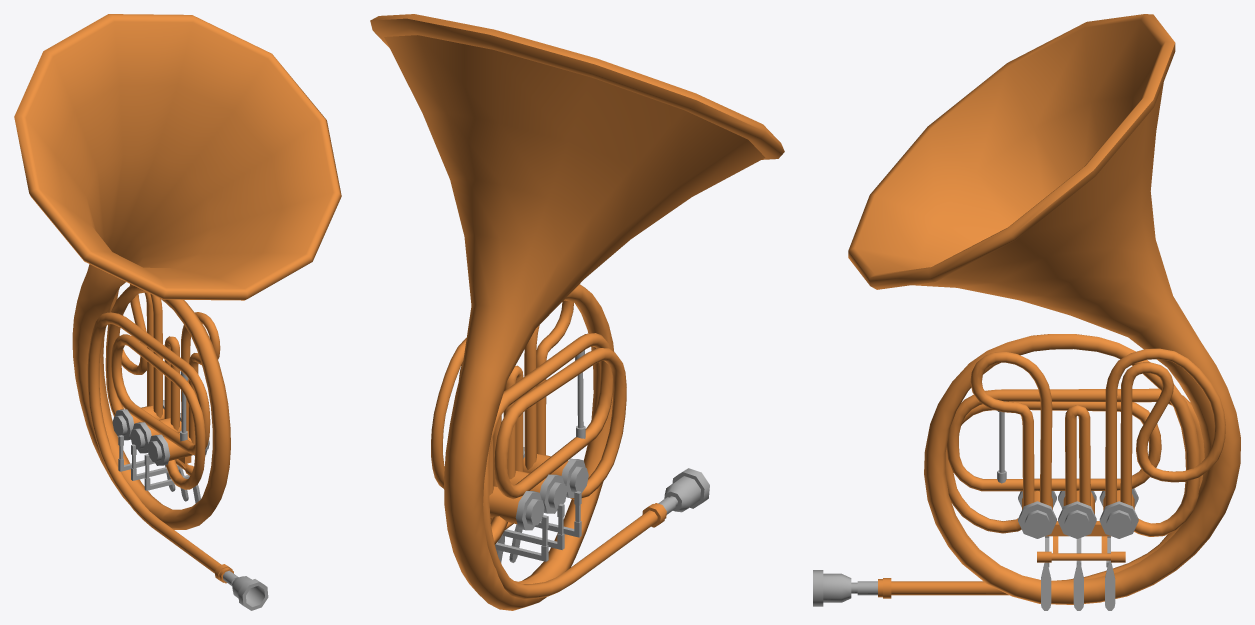
The model's file is FrenchHorn_01.fbx.
3 views of the same model, side by side, from view 1: azimuth 30°, elevation 25°; view 2: azimuth 150°, elevation 25°; view 3: azimuth 270°, elevation 25° (orthographic). The views are drawn at different scales.
Visible parts, largest first — view 1: FrenchHorn_01; view 2: FrenchHorn_01; view 3: FrenchHorn_01.
Part boxes in pixels (x1,y1,x2,y2): FrenchHorn_01: (14,14,341,610); FrenchHorn_01: (370,14,784,610); FrenchHorn_01: (813,14,1240,610).
Size of the model in its own units: 0.3977 by 0.6155 by 0.4211.
